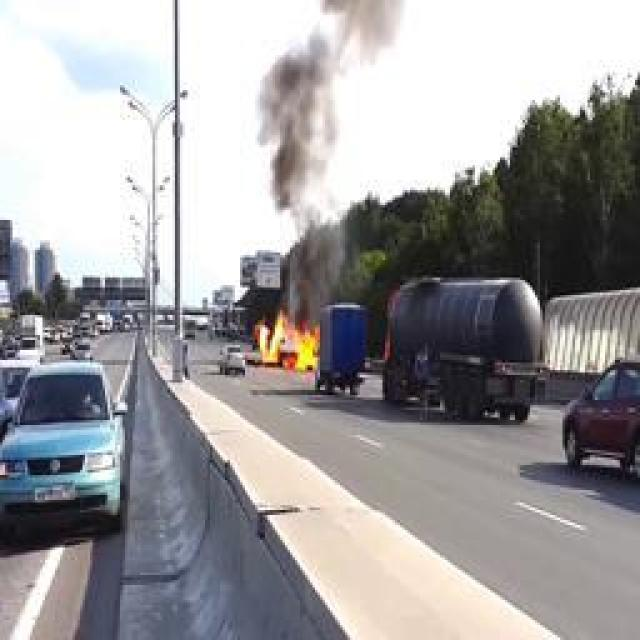Fire: (258, 308, 320, 370)
